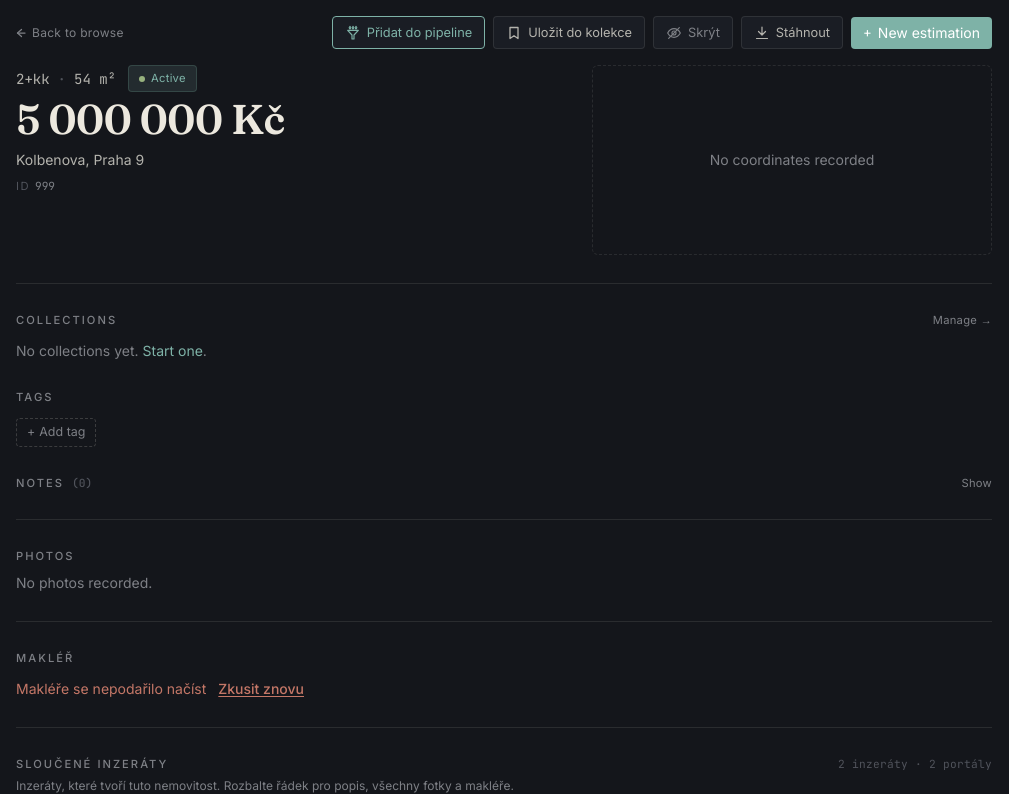
it: <BrokerList> › says so when the attribution read fails instead of looking unattributed
Click the button "Zkusit znovu".
click(261, 689)  # box [218,679,304,699]
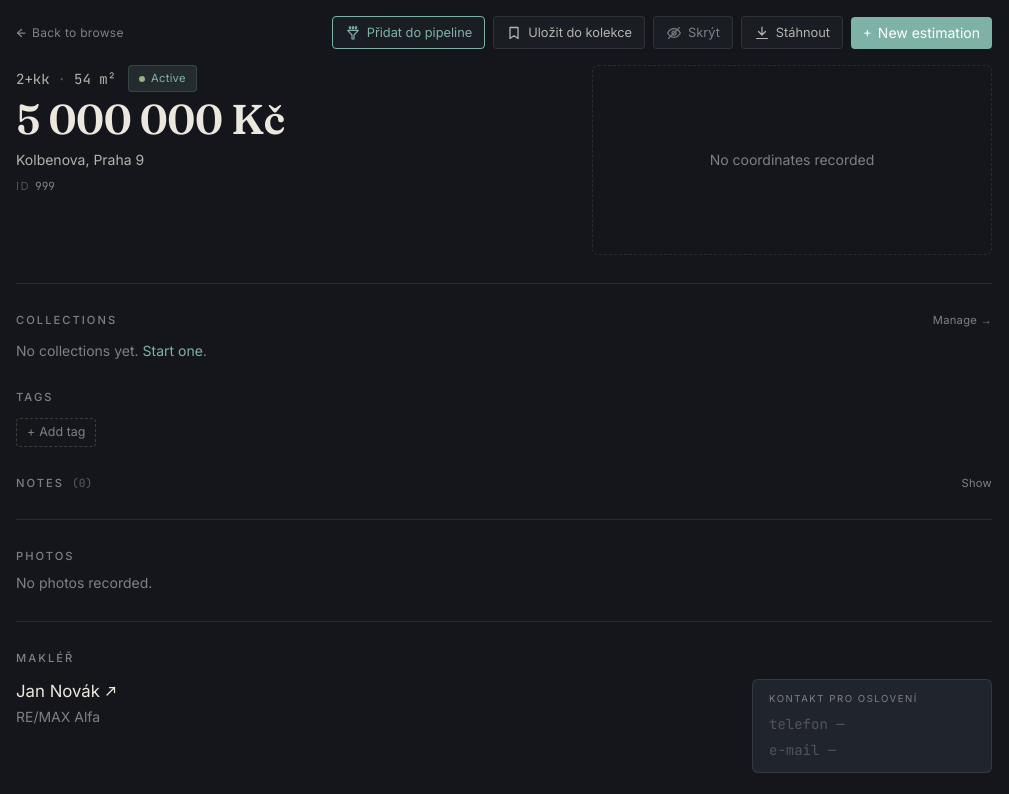
Result: the text "Jan Novák" is shown at [16,681,100,702]
